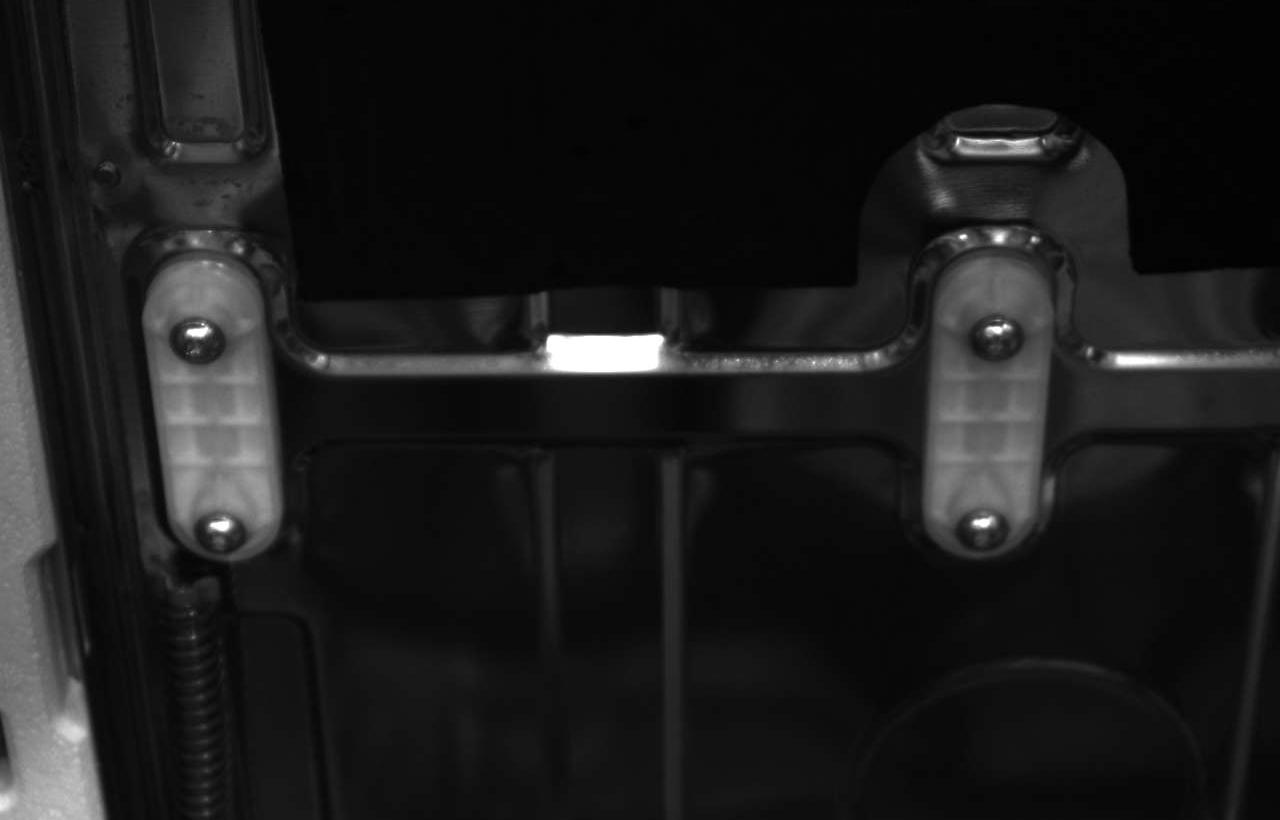vida-ok: (164, 308, 236, 375), (966, 305, 1033, 372), (951, 487, 1017, 555), (186, 501, 251, 559)
